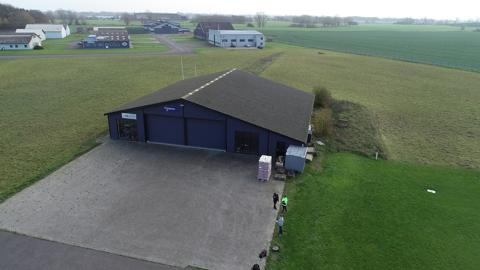RockwoolPallet: (258, 155, 273, 181)
